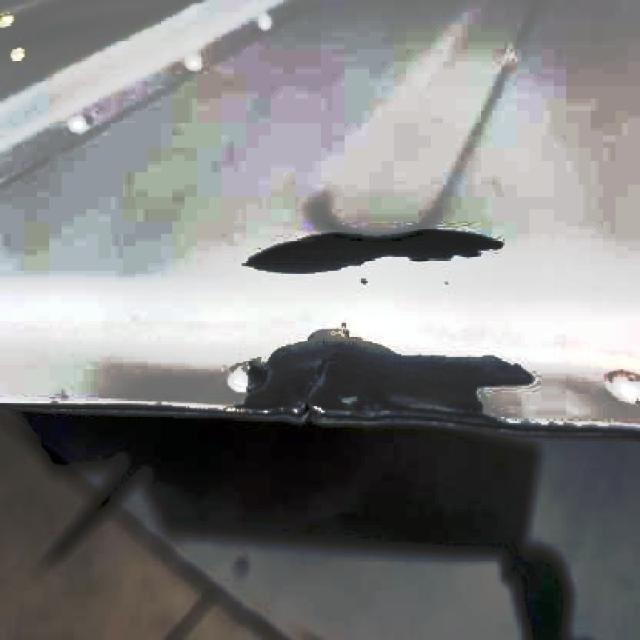crack: (302, 350, 333, 408)
